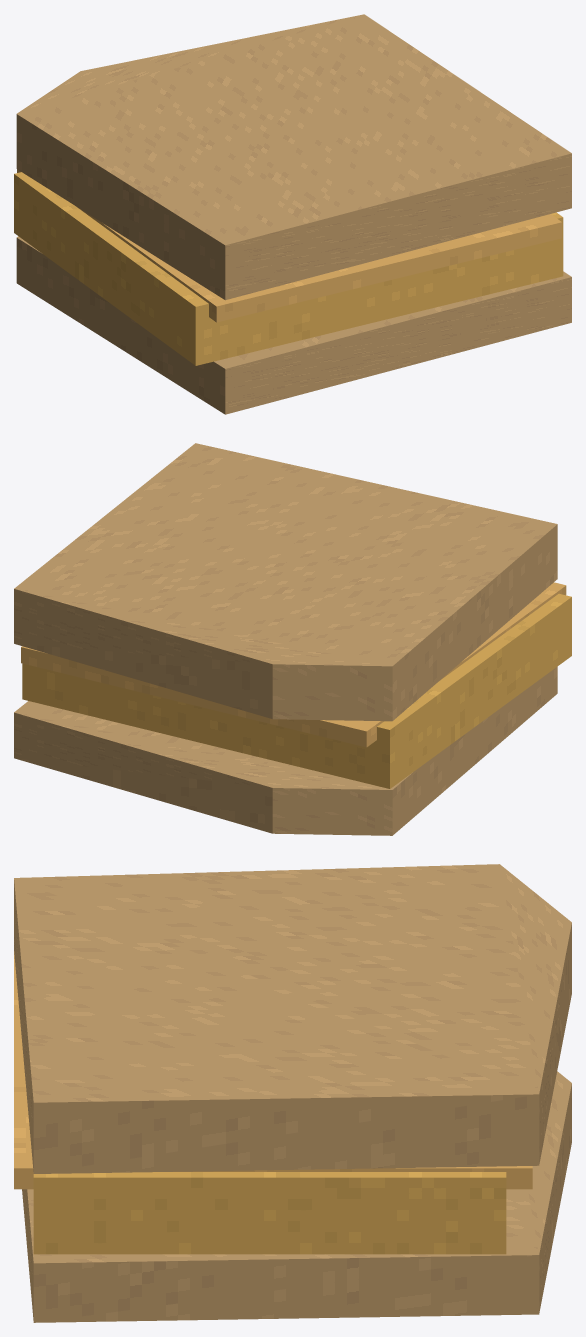
Rendered from sandwich_cheese.glb.
The picture shows the model from 3 angles, top to bottom: view 1: azimuth 30°, elevation 25°; view 2: azimuth 150°, elevation 25°; view 3: azimuth 270°, elevation 25°; orthographic projection. The views are drawn at different scales.
Parts seen in each view (by area): view 1: block_upper slice, block_filling, block_lower slice, block_second filling; view 2: block_upper slice, block_lower slice, block_filling, block_second filling; view 3: block_upper slice, block_lower slice, block_filling, block_second filling.
Part boxes in pixels (x1,y1,x2,y2): block_upper slice: (16,14,571,300); block_filling: (14,172,563,365); block_lower slice: (16,236,571,414); block_second filling: (17,169,561,322); block_upper slice: (14,443,557,721); block_lower slice: (14,666,557,835); block_filling: (22,593,571,788); block_second filling: (21,582,566,747); block_upper slice: (14,864,571,1173); block_lower slice: (22,1071,571,1322); block_filling: (33,1172,506,1254); block_second filling: (14,951,532,1189).
Bounding box in the file's own units: 0.1437 × 0.0618 × 0.142.
Materials: 1 (1 with a texture image).
